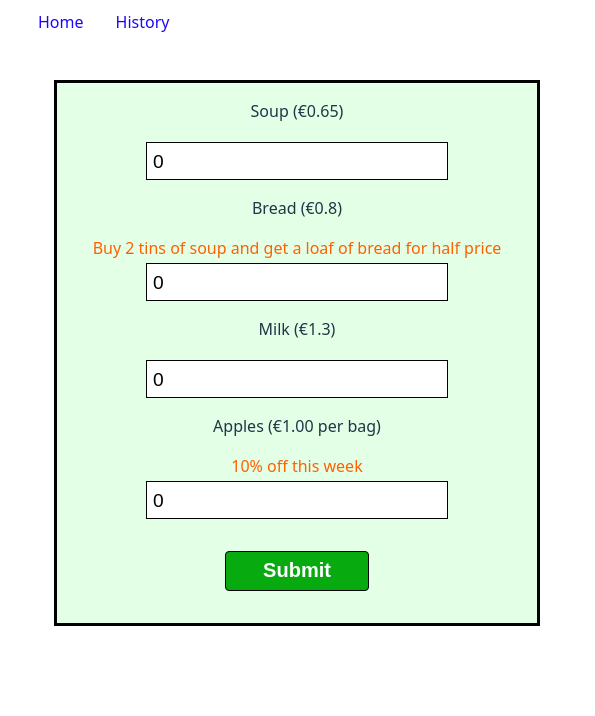
Test: Basket form and GeneratedReceipt integration › submits form and displays stubbed receipt (mocking response)
Replace the text in the number field with id "soup-quantity" with "2". click: (298, 161)
box: x1=146 y1=142 x2=449 y2=180
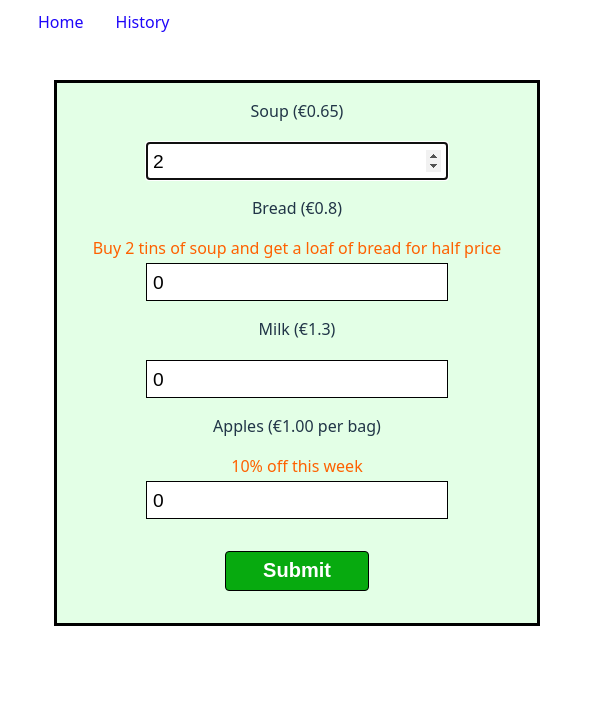
Replace the text in the number field with id "bread-quantity" with "1". click: (298, 282)
box: x1=146 y1=263 x2=449 y2=301
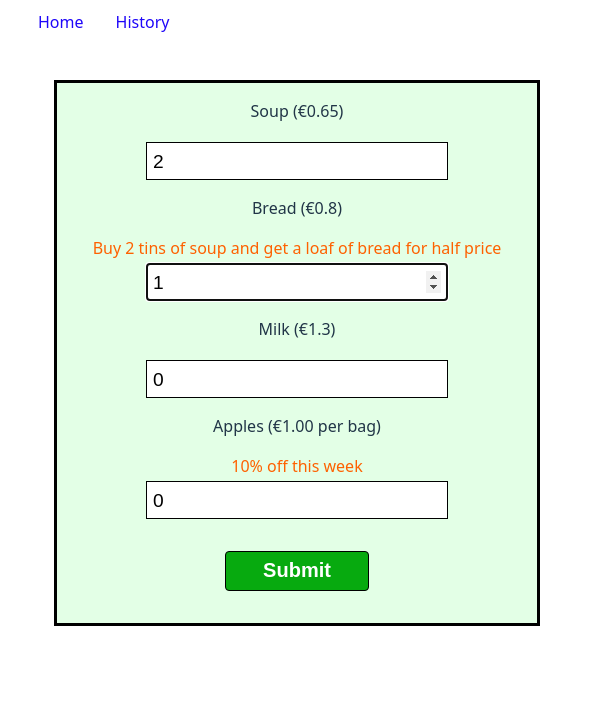
Replace the text in the number field with id "milk-quantity" with "5". click: (298, 379)
box: x1=146 y1=360 x2=449 y2=398
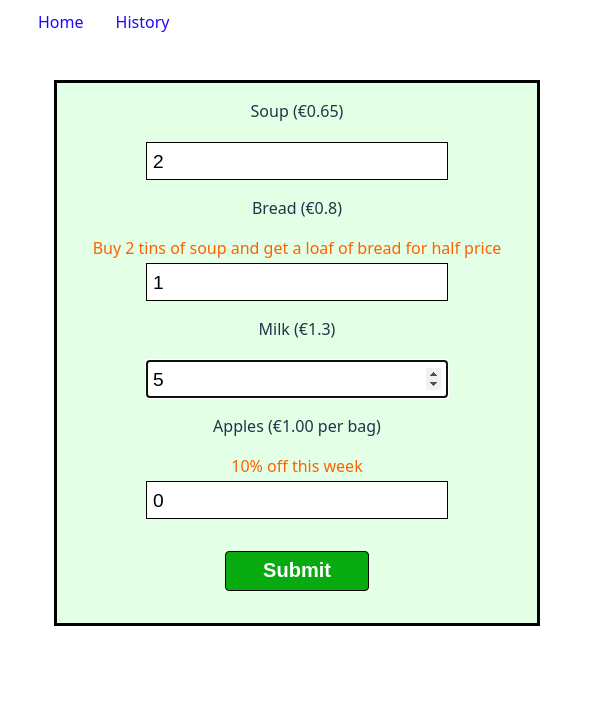
Replace the text in the number field with id "apples-quantity" with "10". click: (298, 500)
box: x1=146 y1=481 x2=449 y2=519
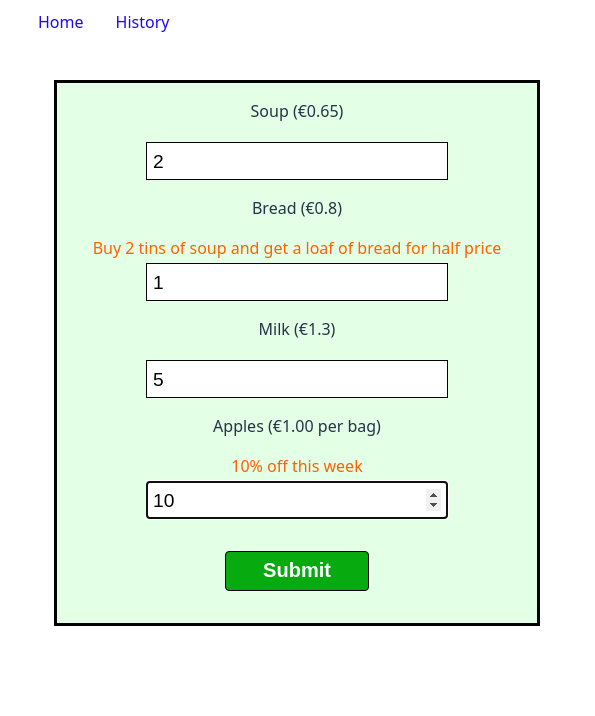
Click the button with id "button-submit-form". click: (297, 571)
box: x1=225 y1=551 x2=369 y2=591
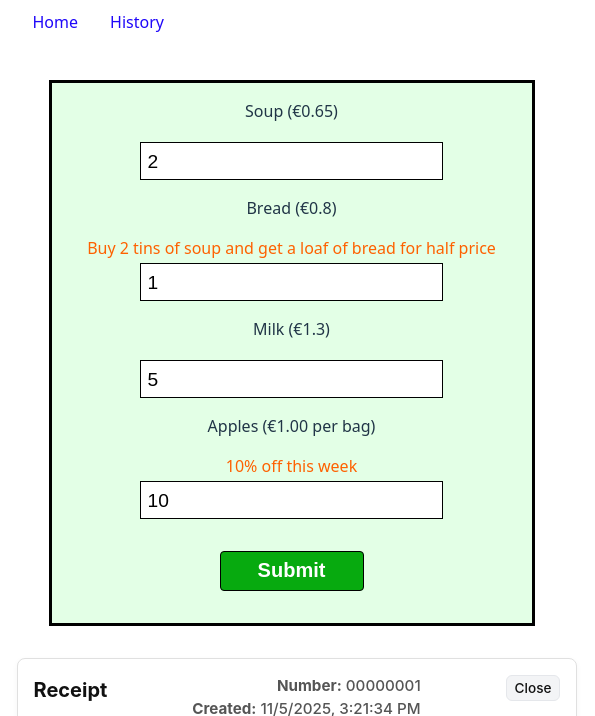
Expected: the element with class "generated-receipt-wrapper" is shown, x1=17 y1=658 x2=578 y2=715
Expected: the element showing "Number: 00000001" is shown, x1=277 y1=676 x2=421 y2=695
